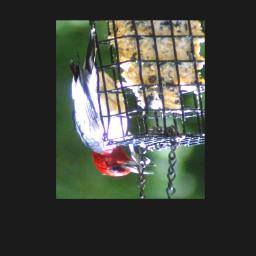Woodpecker: (69, 21, 158, 178)
